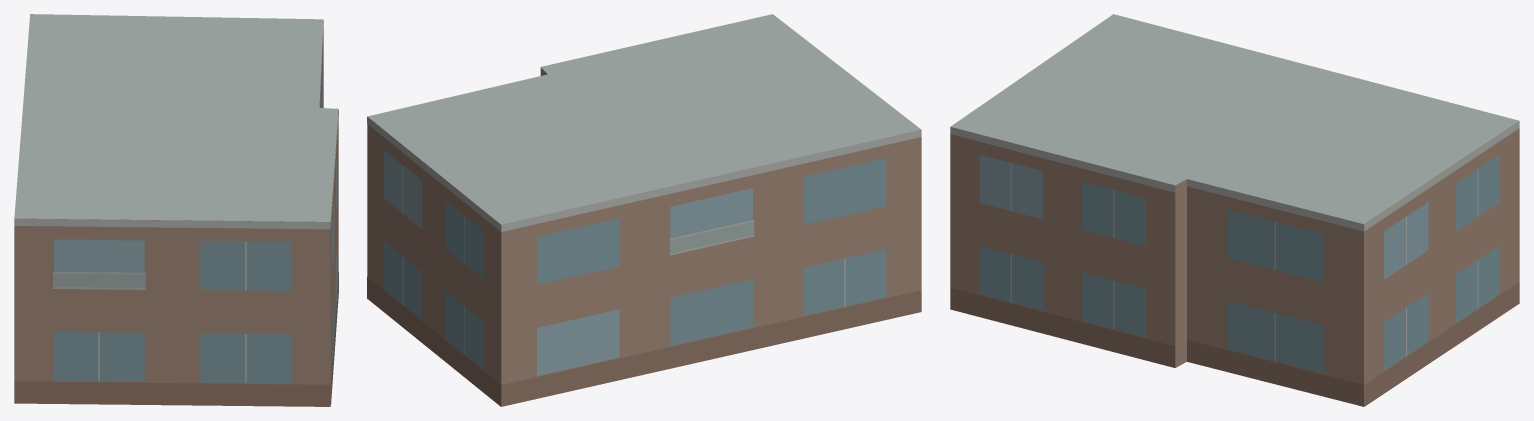
The model's file is survey-upis-32940961.glb.
3 renders of one model, left to right at view 1: azimuth 30°, elevation 25°; view 2: azimuth 150°, elevation 25°; view 3: azimuth 270°, elevation 25°, orthographic.
Visible parts, largest first — view 1: survey-upis-32940961.tmp; view 2: survey-upis-32940961.tmp; view 3: survey-upis-32940961.tmp.
Boxes of the visible parts, box(x1,y1,x2,y2) form: survey-upis-32940961.tmp: box(14, 14, 338, 406); survey-upis-32940961.tmp: box(367, 14, 921, 406); survey-upis-32940961.tmp: box(950, 14, 1519, 406).
Size of the model in its own units: 15.06 by 6.1 by 17.24.
